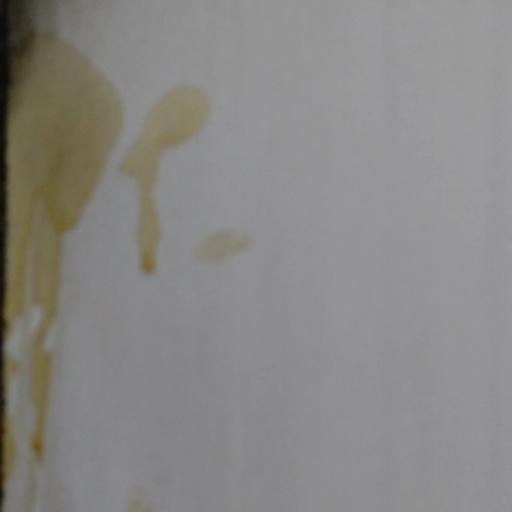stain: (0, 9, 129, 511), (109, 38, 296, 341)
